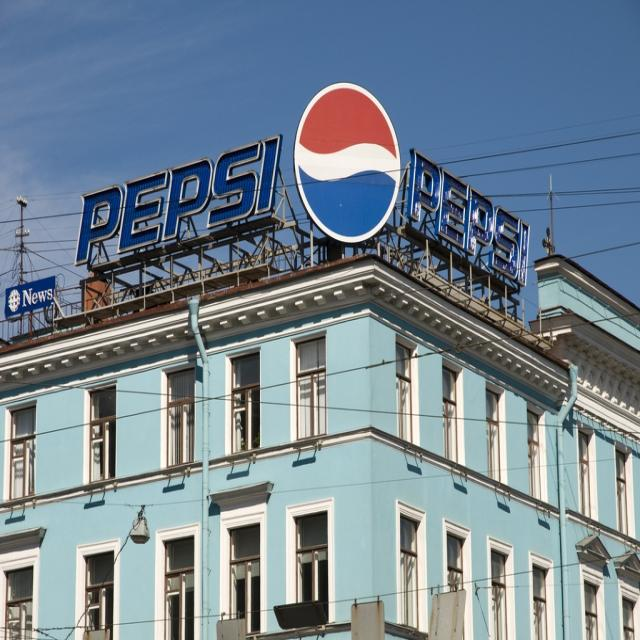pepsi: (294, 81, 403, 244)
